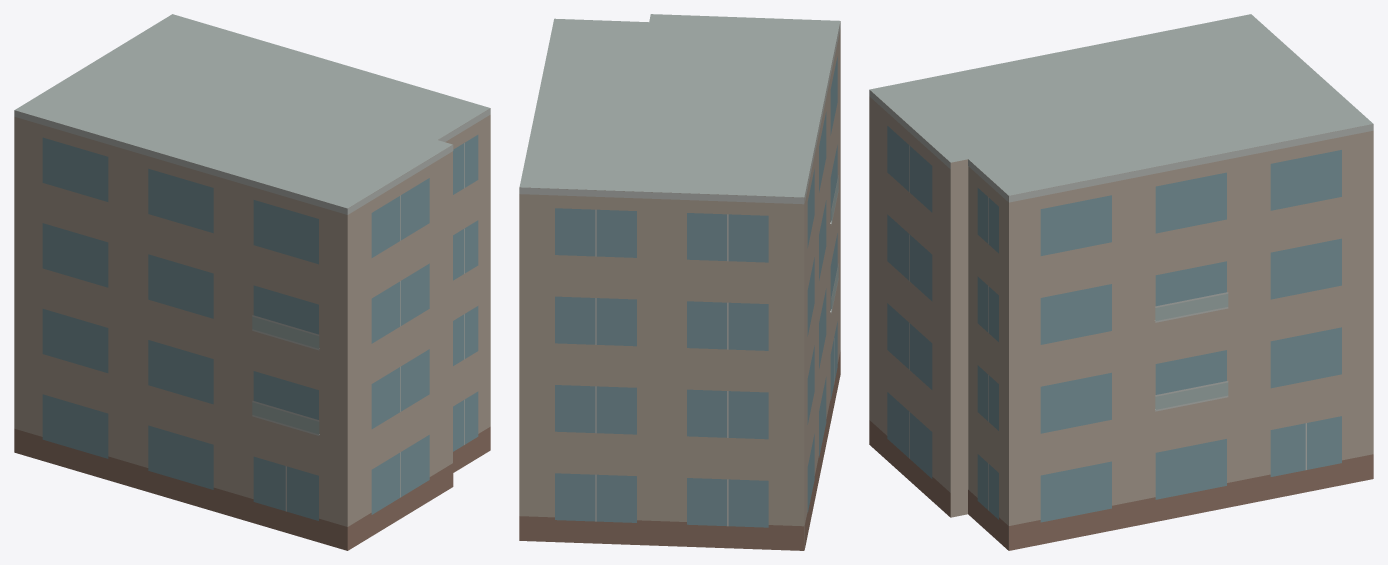
File: survey-upis-32708313.glb
3 views of the same model, side by side, from view 1: azimuth 30°, elevation 25°; view 2: azimuth 150°, elevation 25°; view 3: azimuth 270°, elevation 25° (orthographic). The views are drawn at different scales.
Visible parts, largest first — view 1: survey-upis-32708313.tmp; view 2: survey-upis-32708313.tmp; view 3: survey-upis-32708313.tmp.
Part boxes in pixels (x1,y1,x2,y2): survey-upis-32708313.tmp: (14, 14, 490, 550); survey-upis-32708313.tmp: (519, 14, 840, 550); survey-upis-32708313.tmp: (869, 14, 1373, 550).
Size of the model in its own units: 14.07 by 12.8 by 16.48.
